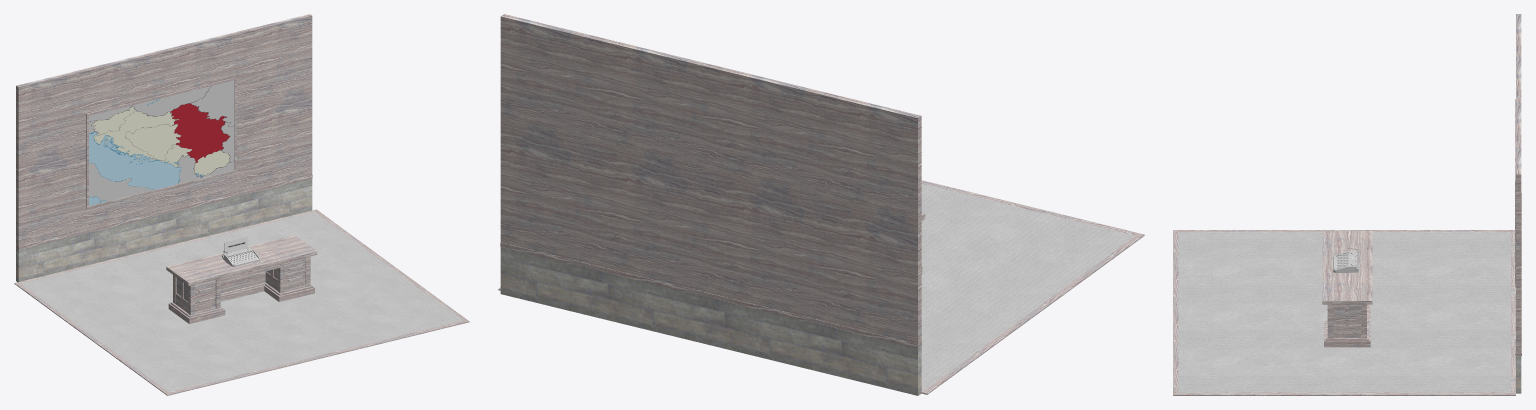
File: memorandum.obj
The picture shows the model from 3 angles, left to right: view 1: azimuth 30°, elevation 25°; view 2: azimuth 150°, elevation 25°; view 3: azimuth 270°, elevation 25°; orthographic projection. The views are drawn at different scales.
Parts seen in each view (by area): view 1: Part64, Part69, Part66, Part61, Part41, Union1, Part70, Part1, Part62, Part63, Part2, Part5 (+2 smaller); view 2: Part69, Part64, Part61, Part70, Part63, Part1; view 3: Part64, Part41, Part69, Part2, Part1, Part62, Part63, Typewriterfix1, Part7, Part8, Part9.
Boxes of the visible parts, x1,y1,x2,y2 form: Part64: [21, 212, 462, 392]; Part69: [16, 14, 312, 246]; Part66: [89, 80, 234, 205]; Part61: [16, 178, 312, 282]; Part41: [166, 235, 317, 285]; Union1: [86, 77, 236, 208]; Part70: [16, 175, 312, 249]; Part1: [169, 320, 465, 394]; Part62: [19, 210, 314, 283]; Part63: [14, 282, 171, 395]; Part2: [313, 209, 469, 323]; Part5: [220, 271, 265, 293]; Part69: [500, 14, 921, 343]; Part64: [921, 183, 1134, 389]; Part61: [500, 247, 921, 395]; Part70: [500, 242, 921, 348]; Part63: [921, 233, 1144, 394]; Part1: [921, 180, 1138, 235]; Part64: [1178, 232, 1510, 392]; Part41: [1322, 231, 1372, 304]; Part69: [1516, 14, 1521, 352]; Part2: [1173, 392, 1515, 395]; Part1: [1173, 232, 1178, 392]; Part62: [1511, 232, 1515, 392]; Part63: [1173, 230, 1514, 231]; Typewriterfix1: [1333, 247, 1359, 272]; Part7: [1333, 306, 1360, 325]; Part8: [1324, 321, 1370, 347]; Part9: [1333, 325, 1360, 337].
Bounding box in the file's own units: 29.4 × 18.18 × 26.23.
